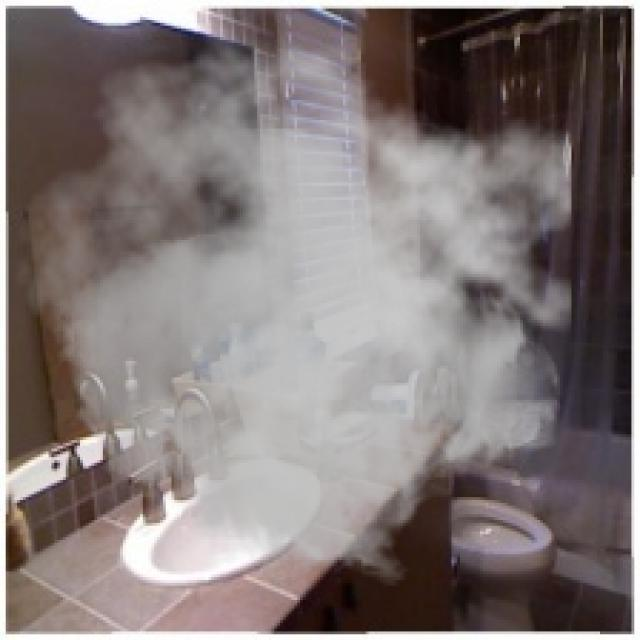Smoke: (14, 22, 572, 588)
